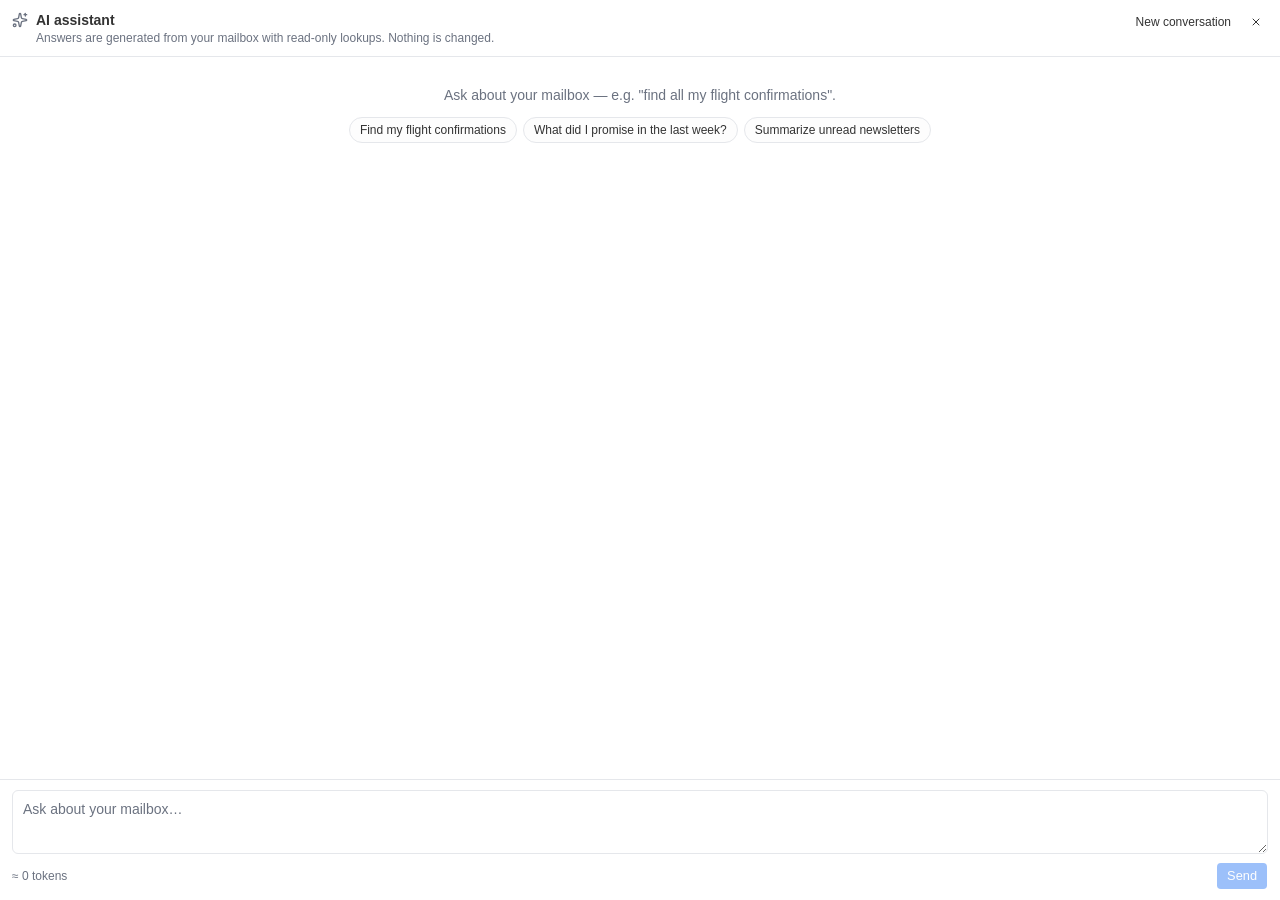
Test case: AssistantPanel regenerate (spec: Regeneration) › re-runs the same message against the history before it and replaces the answer
Type "what did I promise?" into the text box with test id "assistant-input".
click(640, 822); type("what did I promise?")  # box left=12, top=790, right=1268, bottom=854
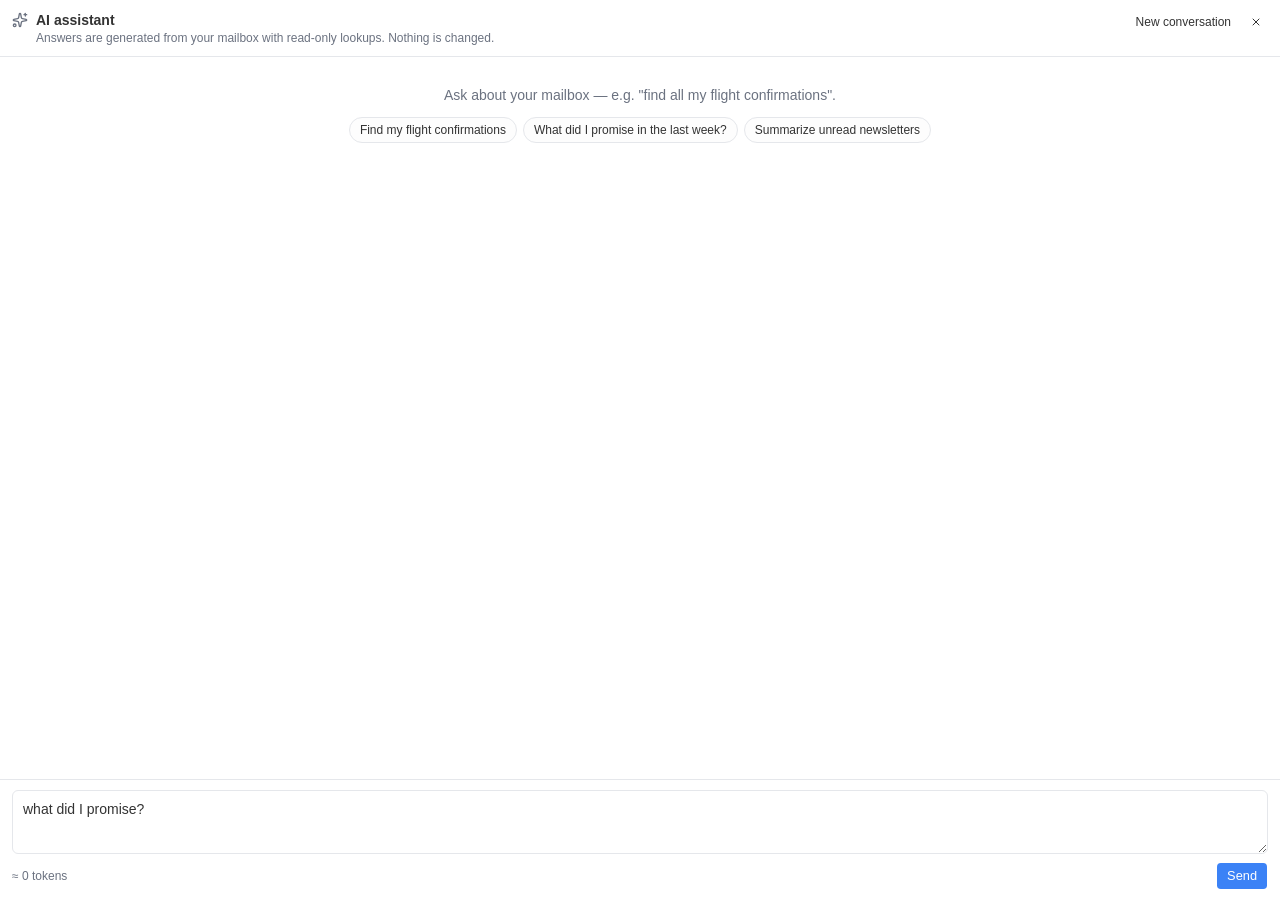
Click the button "Send".
click(1242, 876)  # box left=1216, top=862, right=1268, bottom=890
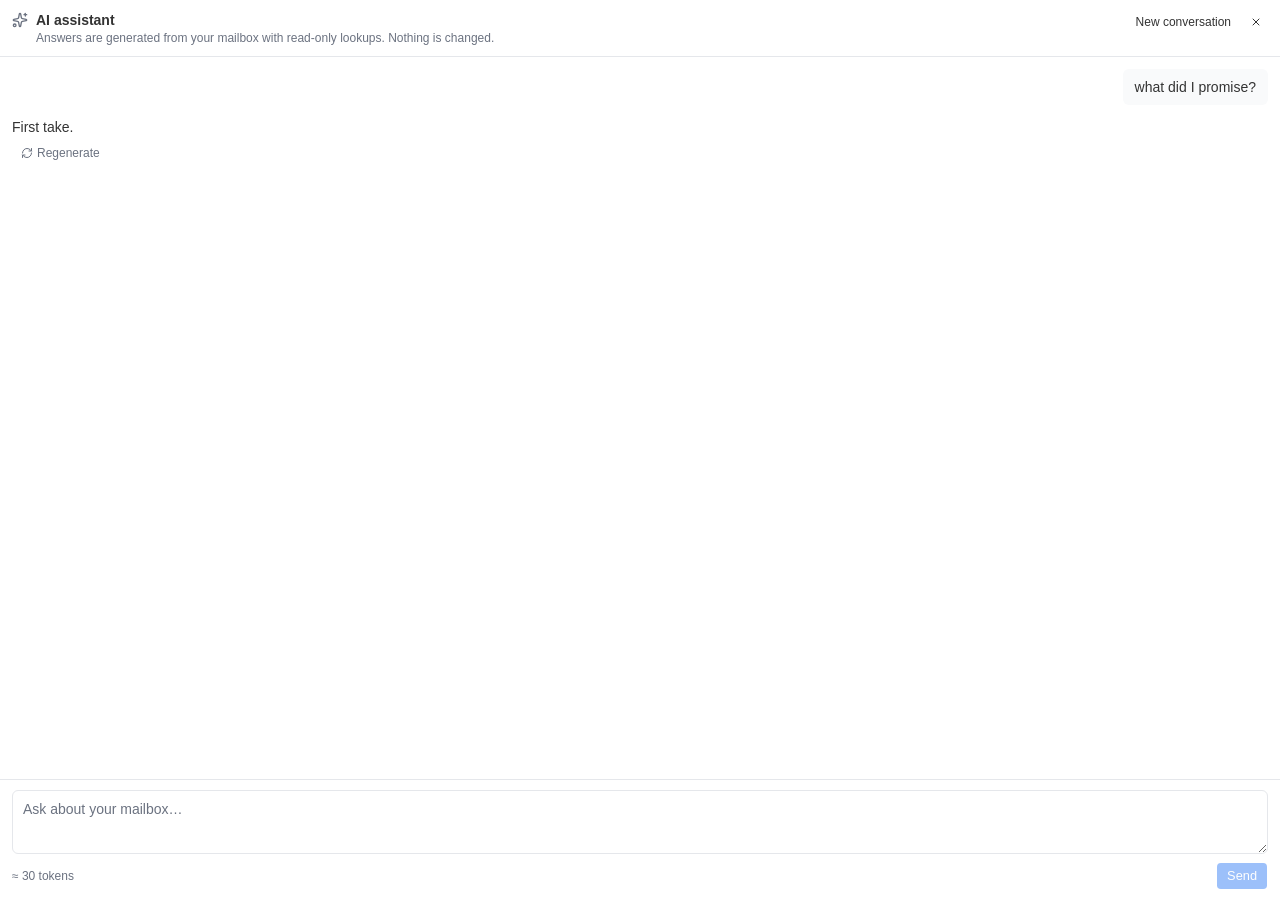
Result: the text "First take." is shown at left=12, top=119, right=74, bottom=135
Click the button with test id "assistant-regenerate".
click(60, 153)  # box left=12, top=141, right=109, bottom=165
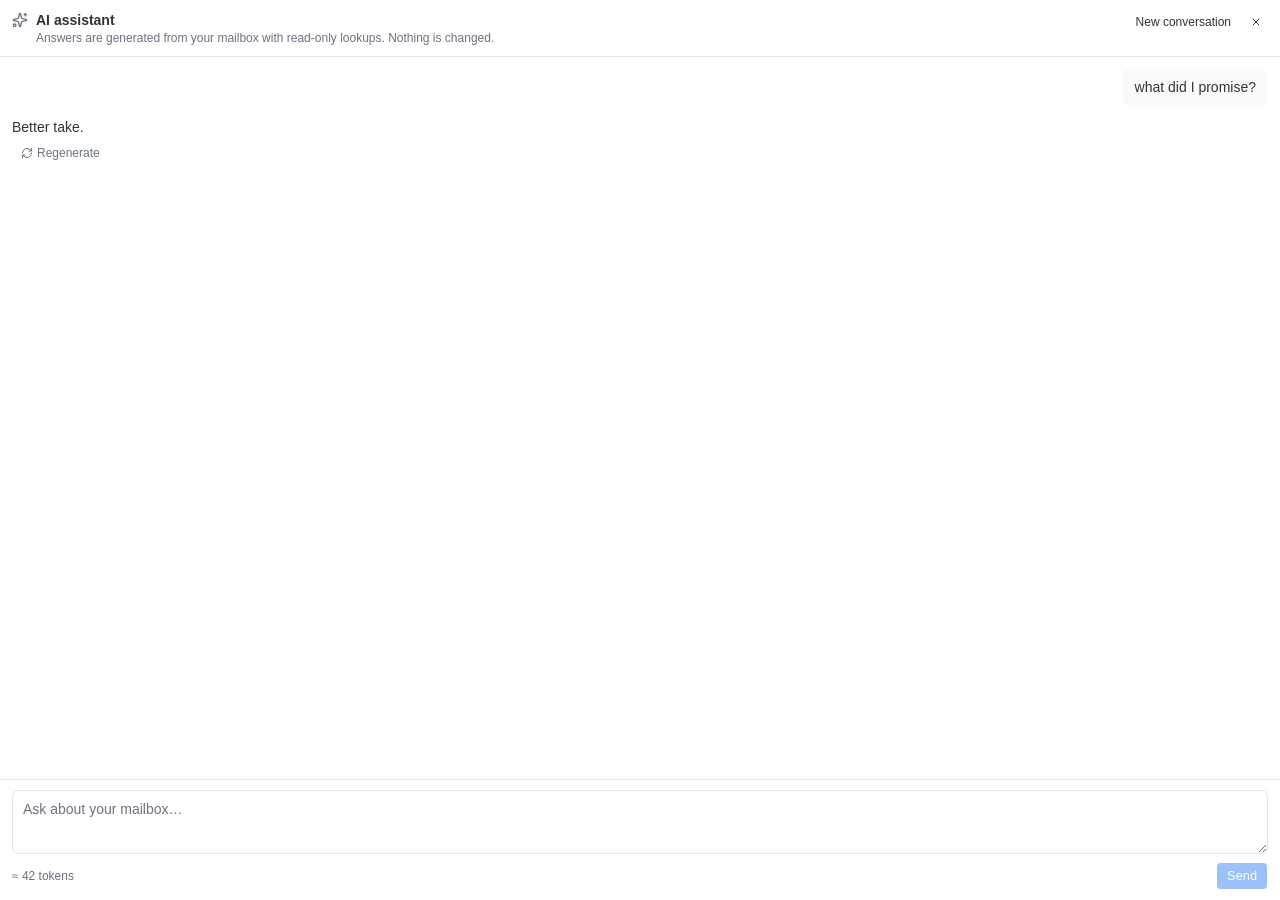
Result: the text "what did I promise?" is shown at left=1123, top=69, right=1268, bottom=105
Result: the text with test id "assistant-answer-turn" reads "Better take." at left=12, top=119, right=84, bottom=135
Result: the text "First take." is gone
